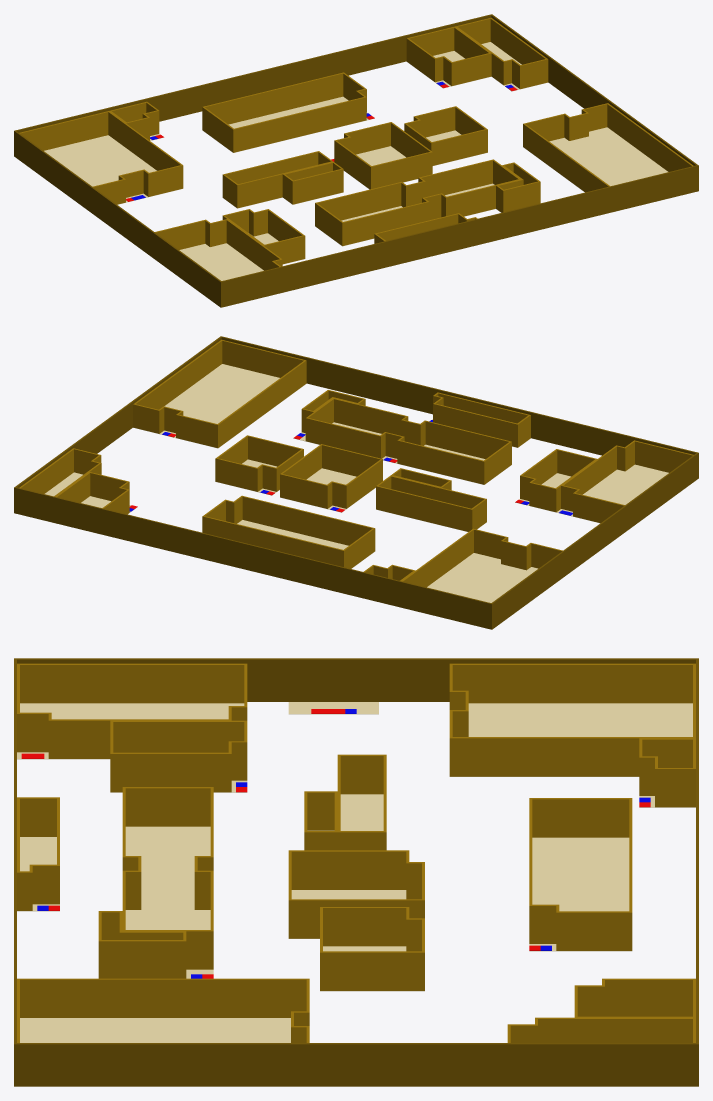
The model's file is Sectors Assembly.dae.
3 views of the same model, one above another, from view 1: azimuth 30°, elevation 25°; view 2: azimuth 150°, elevation 25°; view 3: azimuth 270°, elevation 25° (orthographic). The views are drawn at different scales.
Visible parts, largest first — view 1: Outer Wall, Part 7, Part 2, Part 3, Part 1, Part 8, Part 10, Part 5, Part 6, STecelagem, SAlmoxarifado, Part 4 (+4 smaller); view 2: Outer Wall, Part 7, Part 8, Part 2, Part 10, Part 5, Part 6, Part 1, STecelagem, Part 3, Part 4, Part 9 (+4 smaller); view 3: Outer Wall, Part 10, Part 1, Part 8, Part 7, Part 3, Part 2, Part 4, SAlmoxarifado, Part 6, SCorte, SCostura (+8 smaller).
Part boxes in pixels (x1,y1,x2,y2): Outer Wall: [14, 14, 698, 307]; Part 7: [315, 159, 540, 245]; Part 2: [202, 72, 366, 152]; Part 3: [406, 17, 548, 89]; Part 1: [19, 101, 183, 204]; Part 8: [523, 103, 693, 192]; Part 10: [155, 209, 305, 270]; Part 5: [222, 151, 343, 208]; Part 6: [334, 122, 432, 189]; STecelagem: [525, 127, 667, 190]; SAlmoxarifado: [44, 135, 182, 204]; Part 4: [404, 106, 487, 165]; Outer Wall: [14, 336, 698, 629]; Part 7: [301, 390, 511, 484]; Part 8: [133, 339, 306, 447]; Part 2: [202, 495, 375, 568]; Part 10: [520, 440, 693, 522]; Part 5: [376, 468, 486, 531]; Part 6: [280, 444, 382, 508]; Part 1: [363, 528, 562, 587]; STecelagem: [133, 364, 305, 448]; Part 3: [19, 448, 129, 514]; Part 4: [215, 435, 303, 491]; Part 9: [433, 392, 530, 447]; Outer Wall: [14, 658, 698, 1086]; Part 10: [17, 663, 247, 792]; Part 1: [449, 663, 695, 807]; Part 8: [17, 978, 309, 1042]; Part 7: [98, 787, 213, 978]; Part 3: [507, 978, 695, 1042]; Part 2: [529, 798, 632, 950]; Part 4: [320, 907, 424, 990]; SAlmoxarifado: [450, 703, 692, 776]; Part 6: [288, 850, 424, 938]; SCorte: [529, 837, 631, 951]; SCostura: [125, 826, 210, 929].
Size of the model in its own units: 60.55 by 45.4 by 3.12.
